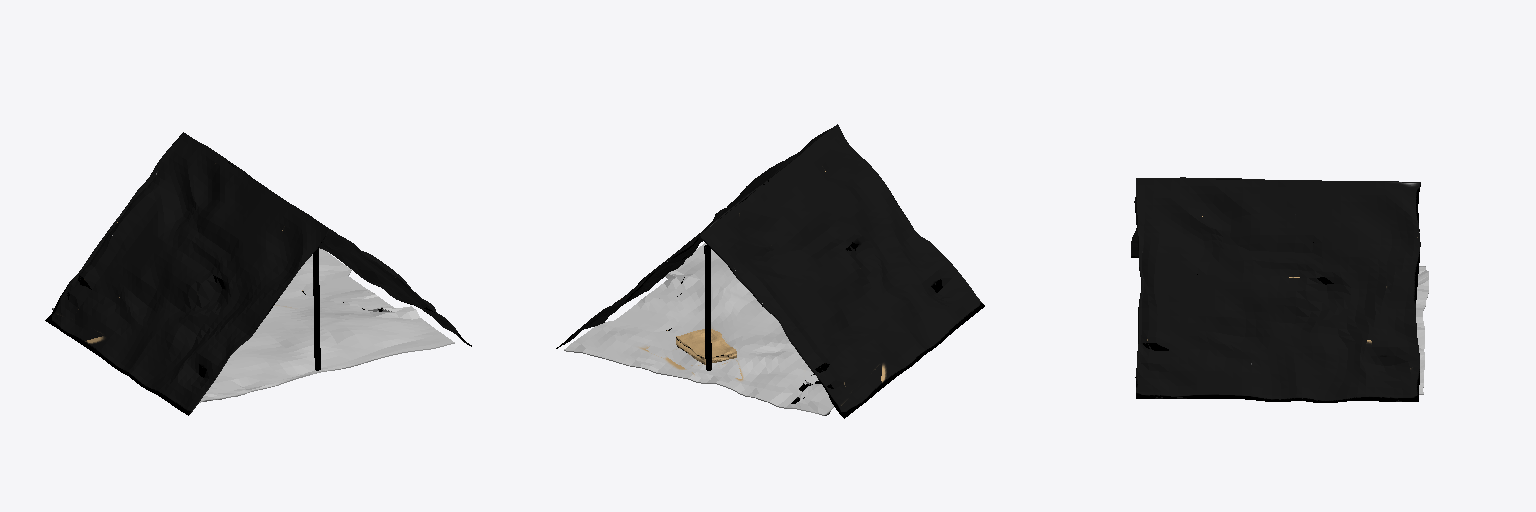
The picture shows the model from 3 angles: view 1: azimuth 30°, elevation 25°; view 2: azimuth 150°, elevation 25°; view 3: azimuth 270°, elevation 25°; orthographic projection.
Visible parts, largest first — view 1: Plane.001; view 2: Plane.001; view 3: Plane.001.
Part boxes in pixels (x1,y1,x2,y2): Plane.001: (45, 132, 471, 415); Plane.001: (556, 124, 984, 418); Plane.001: (1131, 177, 1428, 402).
Size of the model in its own units: 30.43 by 15.82 by 27.13.
1 materials, 1 textured.